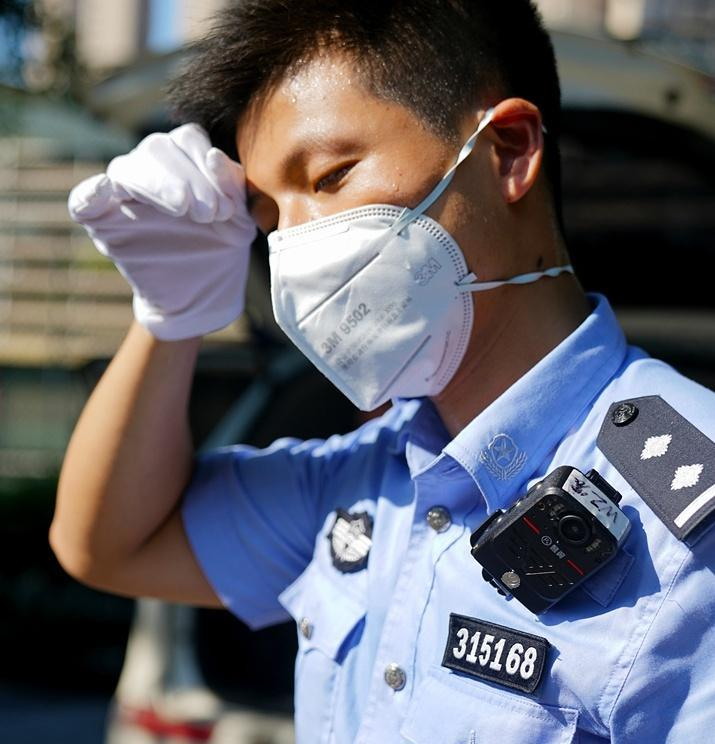OK: (240, 111, 536, 400)
